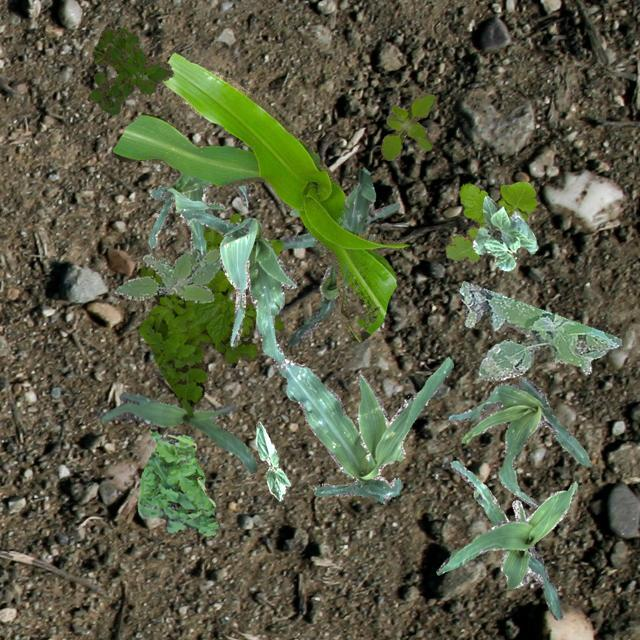crop: (111, 50, 408, 342), (280, 356, 452, 502), (178, 208, 296, 376), (444, 376, 590, 506), (448, 460, 562, 620), (288, 166, 374, 346), (436, 481, 576, 574), (100, 392, 256, 472), (278, 180, 398, 248), (148, 172, 224, 248), (182, 183, 250, 255), (472, 194, 536, 270), (254, 420, 290, 500)
weed: (136, 212, 284, 414), (458, 280, 620, 380), (136, 426, 216, 534), (444, 180, 536, 262), (89, 27, 172, 114), (112, 248, 220, 302), (380, 90, 436, 160)
